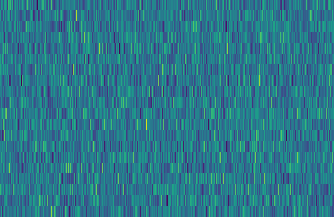signal: (249, 0, 269, 217)
